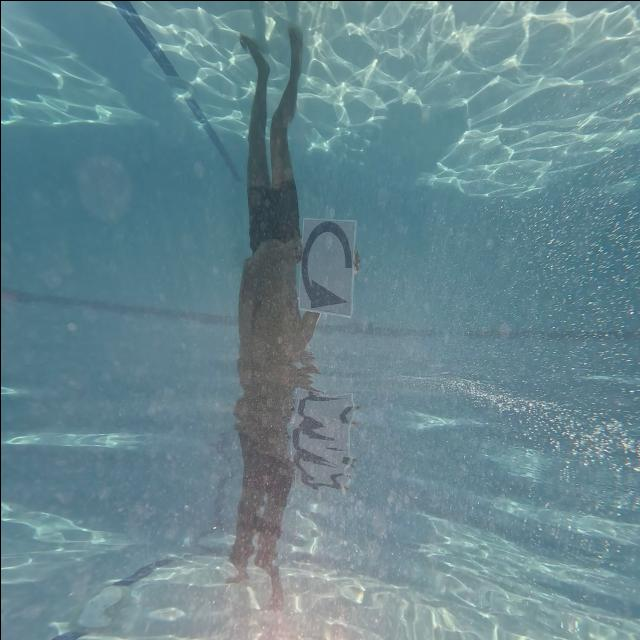blue_side: (290, 218, 358, 318)
